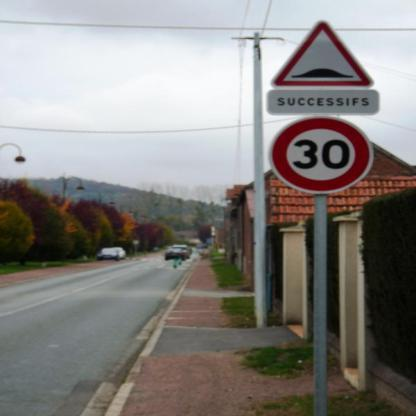Speed Limit 30: (271, 118, 371, 191)
